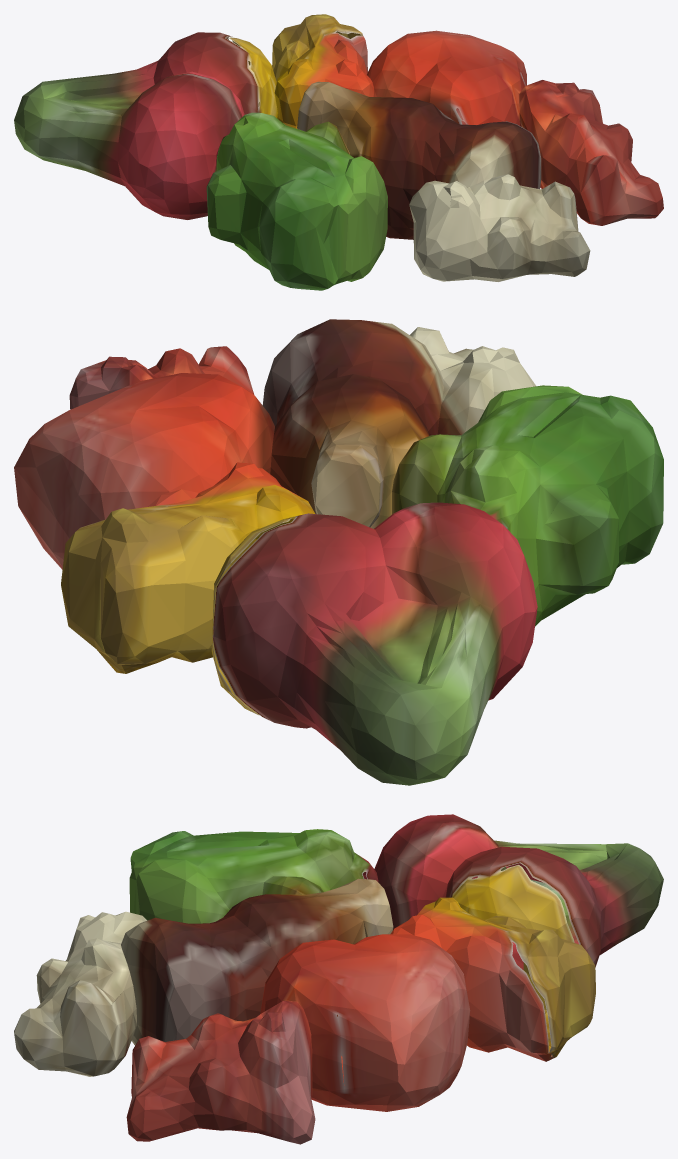
The model's file is HariboM.fbx.
3 views of the same model, one above another, from view 1: azimuth 30°, elevation 25°; view 2: azimuth 150°, elevation 25°; view 3: azimuth 270°, elevation 25° (orthographic). The views are drawn at different scales.
Parts seen in each view (by area): view 1: Mesh1.0; view 2: Mesh1.0; view 3: Mesh1.0.
Part boxes in pixels (x1=…): Mesh1.0: x1=14, y1=14, x2=663, y2=290; Mesh1.0: x1=14, y1=319, x2=663, y2=785; Mesh1.0: x1=14, y1=814, x2=663, y2=1144.
Bounding box in the file's own units: 166 × 49.53 × 190.
